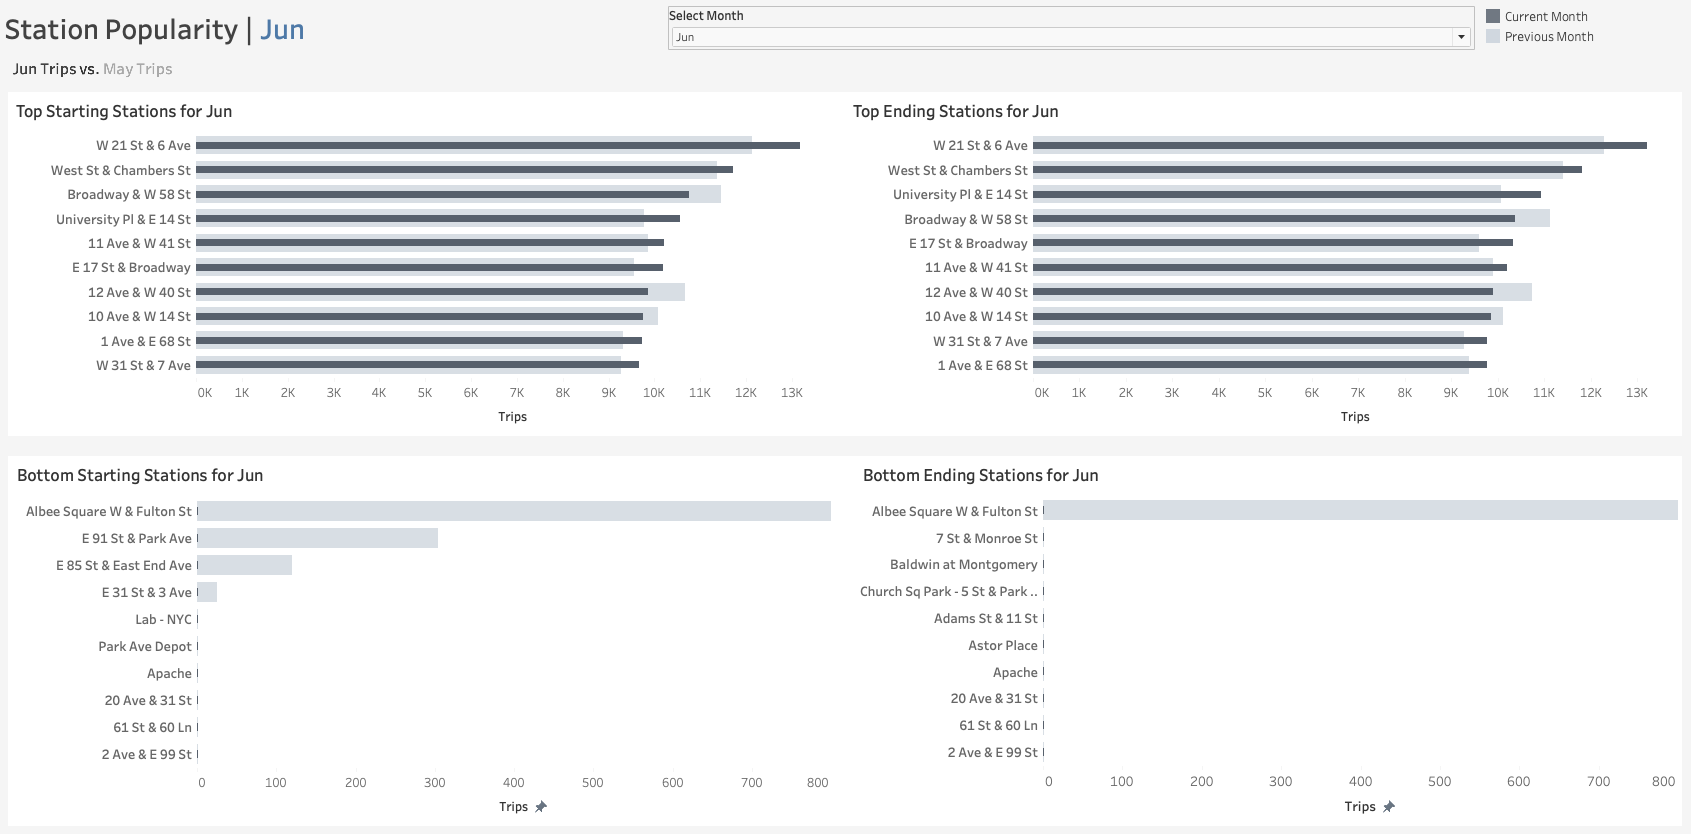

The dashboard page shown, as its layout file describes it:
{"tool":"tableau","page":{"name":"Station Popularity","canvas":[1000,1000],"units":"permille","ordinal":2},"visuals":[{"type":"text","box":[0,0,457.7,52.6]},{"type":"parameter","param":"[Parameters].[Parameter 1]","box":[457.7,0,395.9,52.6]},{"type":"legend","title":"Top Starting Stations","param":"[federated.02sm7nr1siw9os1d3kso008bdk6i].[:Measure Names]","box":[853.6,0,146.4,52.6]},{"type":"worksheet","title":"Legend CM_PM","mark":"Automatic","box":[0,52.6,1000,184.2]},{"type":"worksheet","title":"Top Starting Stations","mark":"Bar","rows":["start_station_name"],"cols":["CM Trips (copy)_2813975771367456798","Calculation_2813975771363704857"],"box":[6.9,247,493.5,348.2]},{"type":"worksheet","title":"Top Ending Stations","mark":"Bar","rows":["end_station_name"],"cols":["CM Trips (copy)_2813975771367456798","Calculation_2813975771363704857"],"box":[500.3,247,492.8,348.2]},{"type":"worksheet","title":"Bottom Starting Stations","mark":"Bar","rows":["start_station_name"],"cols":["CM Trips (copy)_2813975771367456798","Calculation_2813975771363704857"],"box":[6.9,615.4,493.5,374.5]},{"type":"worksheet","title":"Bottom Ending Stations","mark":"Bar","rows":["end_station_name"],"cols":["CM Trips (copy)_2813975771367456798","Calculation_2813975771363704857"],"box":[500.3,615.4,492.8,374.5]}]}

Visuals, with their boxes on the dashboard's canvas, which has no fixed pixel size, in thousandths of its width and height (x1, y1, x2, y2). These are canvas units, not pixel positions in the 1691x834 screenshot, which may show the page scaled, cropped or inside an application window:
text: x1=0, y1=0, x2=458, y2=53
parameter: x1=458, y1=0, x2=854, y2=53
"Top Starting Stations" legend: x1=854, y1=0, x2=1000, y2=53
"Legend CM_PM" worksheet: x1=0, y1=53, x2=1000, y2=237
"Top Starting Stations" worksheet (Bar marks): x1=7, y1=247, x2=500, y2=595
"Top Ending Stations" worksheet (Bar marks): x1=500, y1=247, x2=993, y2=595
"Bottom Starting Stations" worksheet (Bar marks): x1=7, y1=615, x2=500, y2=990
"Bottom Ending Stations" worksheet (Bar marks): x1=500, y1=615, x2=993, y2=990
